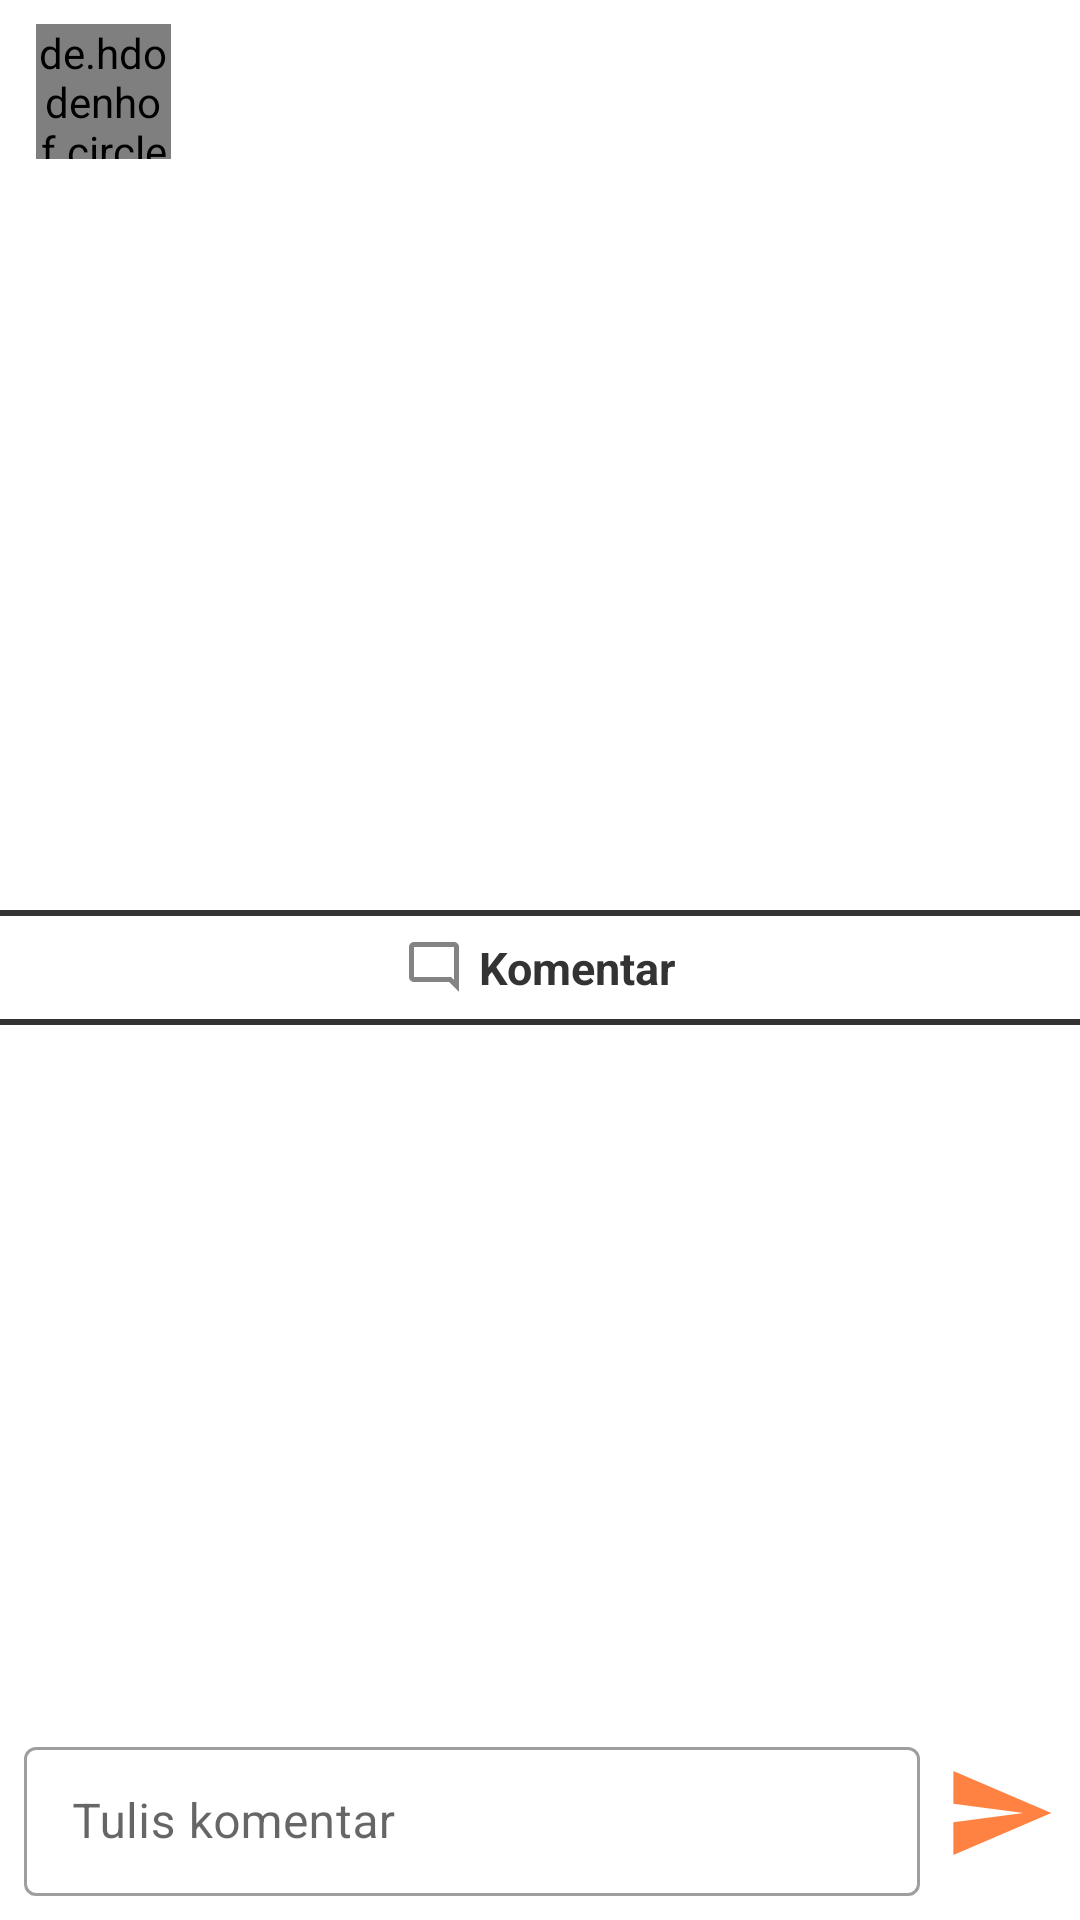

Icon bounding boxes for this 1080x1920 phone screenshot, format box=[x1, y1, x2, y2]:
Kirim: box=[953, 1771, 1051, 1855]
